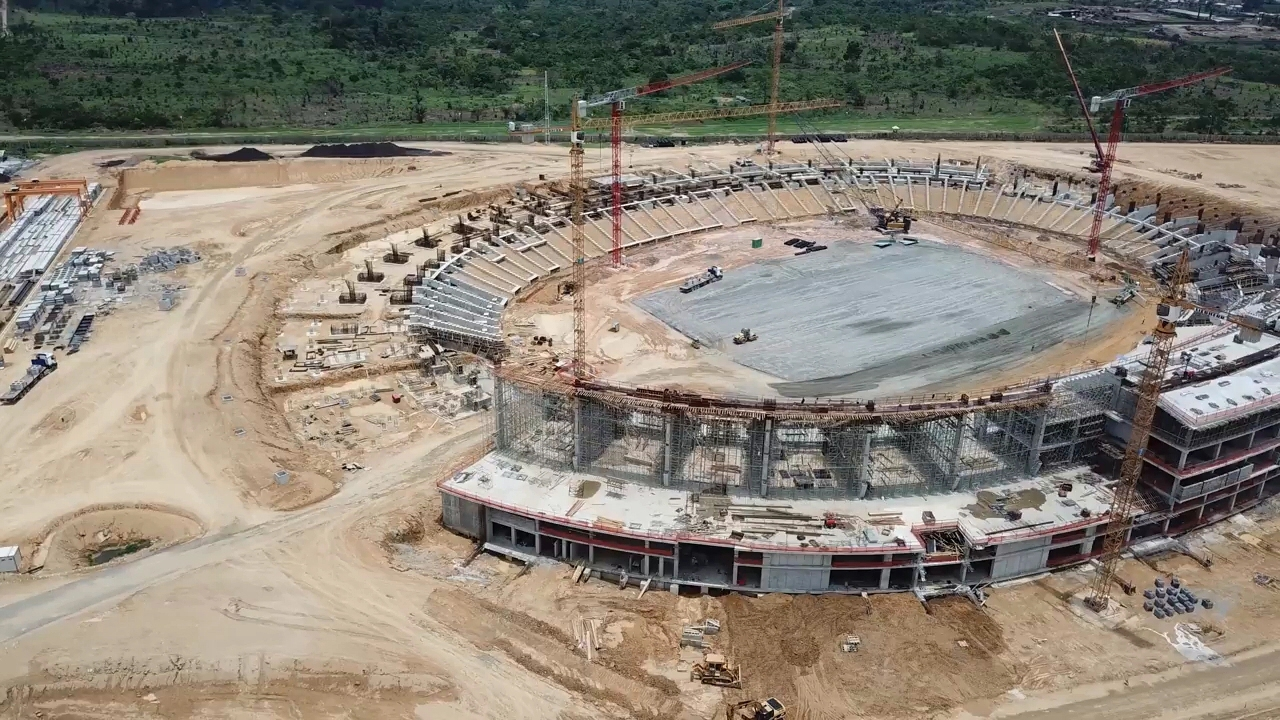ismakinesi: (687, 651, 744, 688)
kamyon: (677, 264, 725, 294)
traktor: (732, 327, 758, 346)
